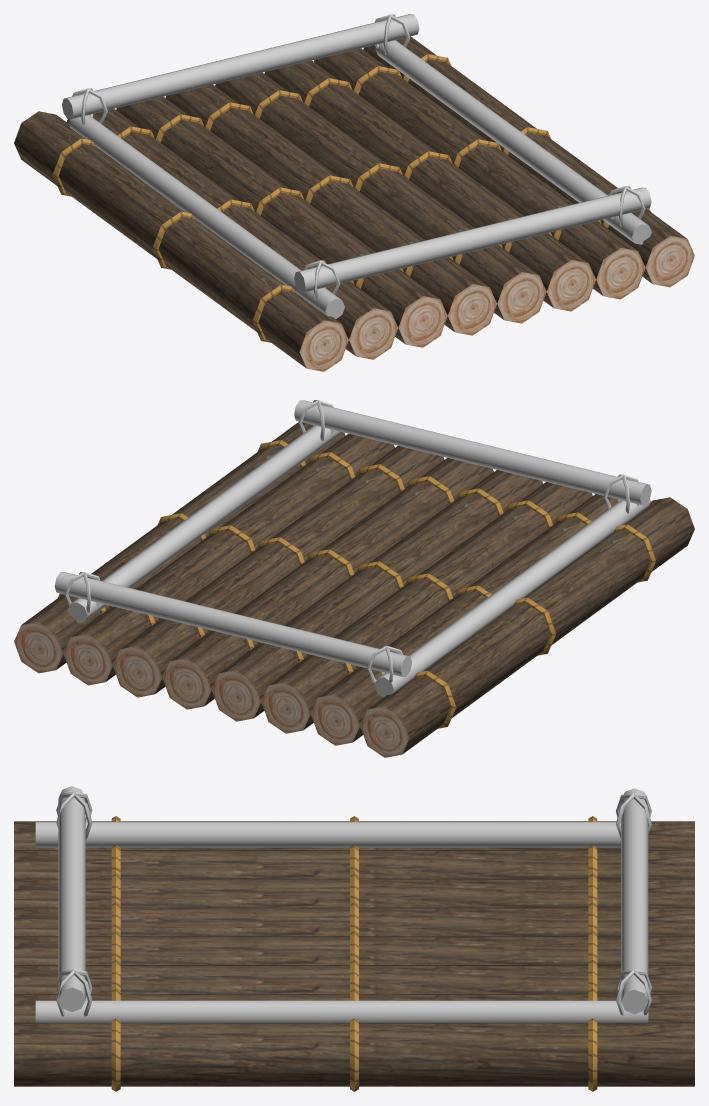
The model's file is Raft.fbx.
3 renders of one model, top to bottom at view 1: azimuth 30°, elevation 25°; view 2: azimuth 150°, elevation 25°; view 3: azimuth 270°, elevation 25°, orthographic. The views are drawn at different scales.
Visible parts, largest first — view 1: Cylinder009, Cylinder017; view 2: Cylinder009, Cylinder017; view 3: Cylinder009, Cylinder017.
Part boxes in pixels (x1,y1,x2,y2): Cylinder009: [14, 36, 694, 371]; Cylinder017: [62, 14, 651, 318]; Cylinder009: [14, 422, 694, 757]; Cylinder017: [54, 400, 651, 697]; Cylinder009: [14, 816, 694, 1091]; Cylinder017: [35, 786, 651, 1022].
Bounding box in the file's own units: 81.62 × 17.78 × 100.
